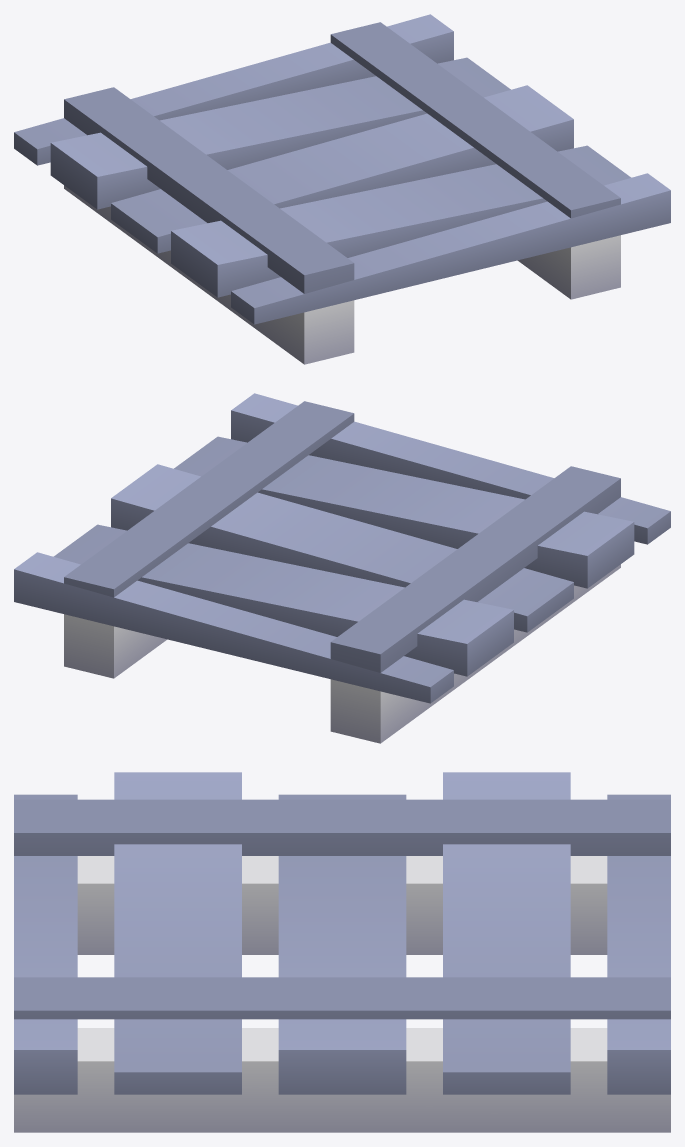
File: platform-fortified.glb
3 renders of one model, top to bottom at view 1: azimuth 30°, elevation 25°; view 2: azimuth 150°, elevation 25°; view 3: azimuth 270°, elevation 25°, orthographic. The views are drawn at different scales.
Parts seen in each view (by area): view 1: platform-fortified; view 2: platform-fortified; view 3: platform-fortified.
Boxes of the visible parts, <box> form: platform-fortified: <box>14,14,670,364</box>; platform-fortified: <box>14,393,670,743</box>; platform-fortified: <box>14,772,670,1132</box>.
Size of the model in its own units: 1 by 0.205 by 1.
